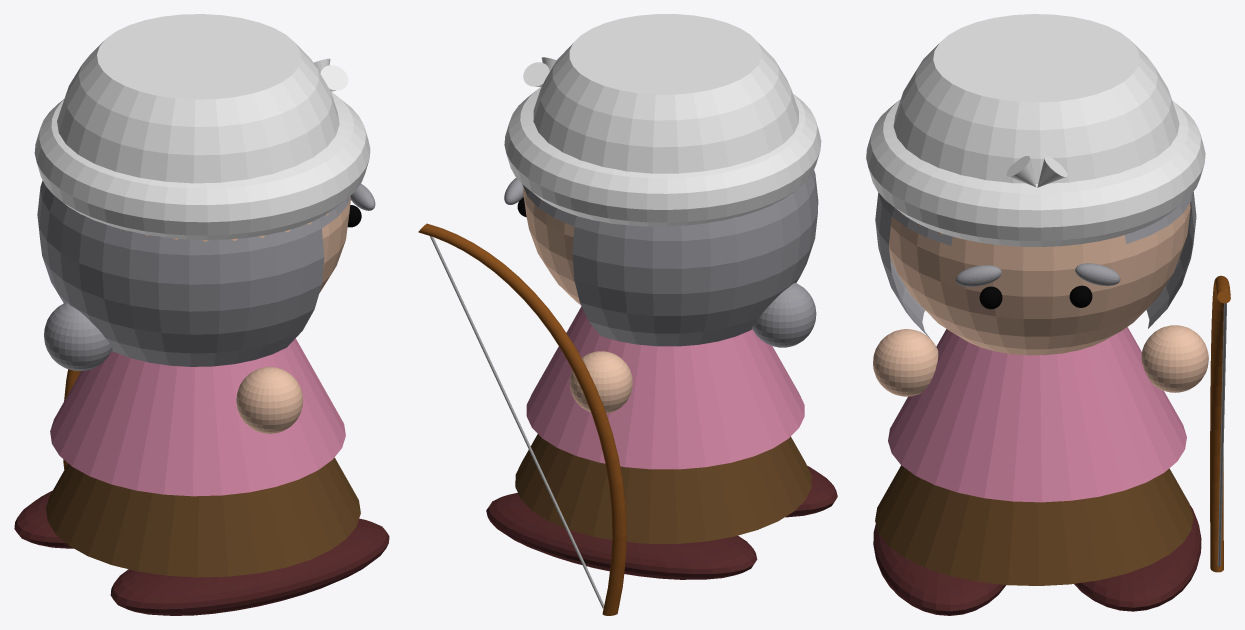
The model's file is grangmather.fbx.
3 renders of one model, left to right at view 1: azimuth 30°, elevation 25°; view 2: azimuth 150°, elevation 25°; view 3: azimuth 270°, elevation 25°, orthographic. The views are drawn at different scales.
Visible parts, largest first — view 1: Sphere.010, Sphere.012, Cone.003, Cone, Torus, Sphere.002, Sphere.004, Sphere.009, Sphere.001, Sphere, Cone.001; view 2: Sphere.010, Sphere.012, Cone.003, Cone, Torus, Sphere.001, Cylinder, Sphere.009, Sphere, Sphere.003, Cylinder.001, Sphere.002; view 3: Cone.003, Sphere.010, Cone, Sphere, Torus, Sphere.012, Sphere.002, Sphere.001, Cylinder, Sphere.003, Sphere.004, Cylinder.001 (+4 smaller).
Part boxes in pixels (box(x1,y1,x2,y2)): Sphere.010: box(57, 14, 339, 183); Sphere.012: box(37, 180, 350, 366); Cone.003: box(50, 338, 345, 496); Cone: box(46, 457, 360, 577); Torus: box(34, 91, 370, 239); Sphere.002: box(110, 518, 389, 615); Sphere.004: box(236, 367, 303, 433); Sphere.009: box(44, 302, 112, 370); Sphere.001: box(14, 490, 73, 548); Sphere: box(96, 197, 350, 292); Cone.001: box(320, 65, 348, 91); Sphere.010: box(533, 14, 798, 173); Sphere.012: box(522, 170, 818, 346); Cone.003: box(526, 306, 804, 469); Cone: box(515, 434, 811, 543); Torus: box(504, 87, 821, 226); Sphere.001: box(486, 492, 757, 579); Cylinder: box(418, 223, 626, 615); Sphere.009: box(752, 282, 816, 347); Sphere: box(523, 188, 580, 304); Sphere.003: box(570, 351, 632, 413); Cylinder.001: box(430, 236, 604, 608); Sphere.002: box(785, 466, 837, 517); Cone.003: box(888, 327, 1186, 502); Sphere.010: box(893, 14, 1179, 183); Cone: box(875, 465, 1193, 585); Sphere: box(889, 203, 1190, 355); Torus: box(866, 99, 1205, 246); Sphere.012: box(875, 192, 1196, 338); Sphere.002: box(873, 524, 1006, 615); Sphere.001: box(1074, 505, 1201, 611); Cylinder: box(1210, 275, 1230, 572); Sphere.003: box(1141, 325, 1208, 392); Sphere.004: box(873, 329, 938, 396); Cylinder.001: box(1217, 290, 1226, 566).
Size of the model in its own units: 139 by 216 by 136.
